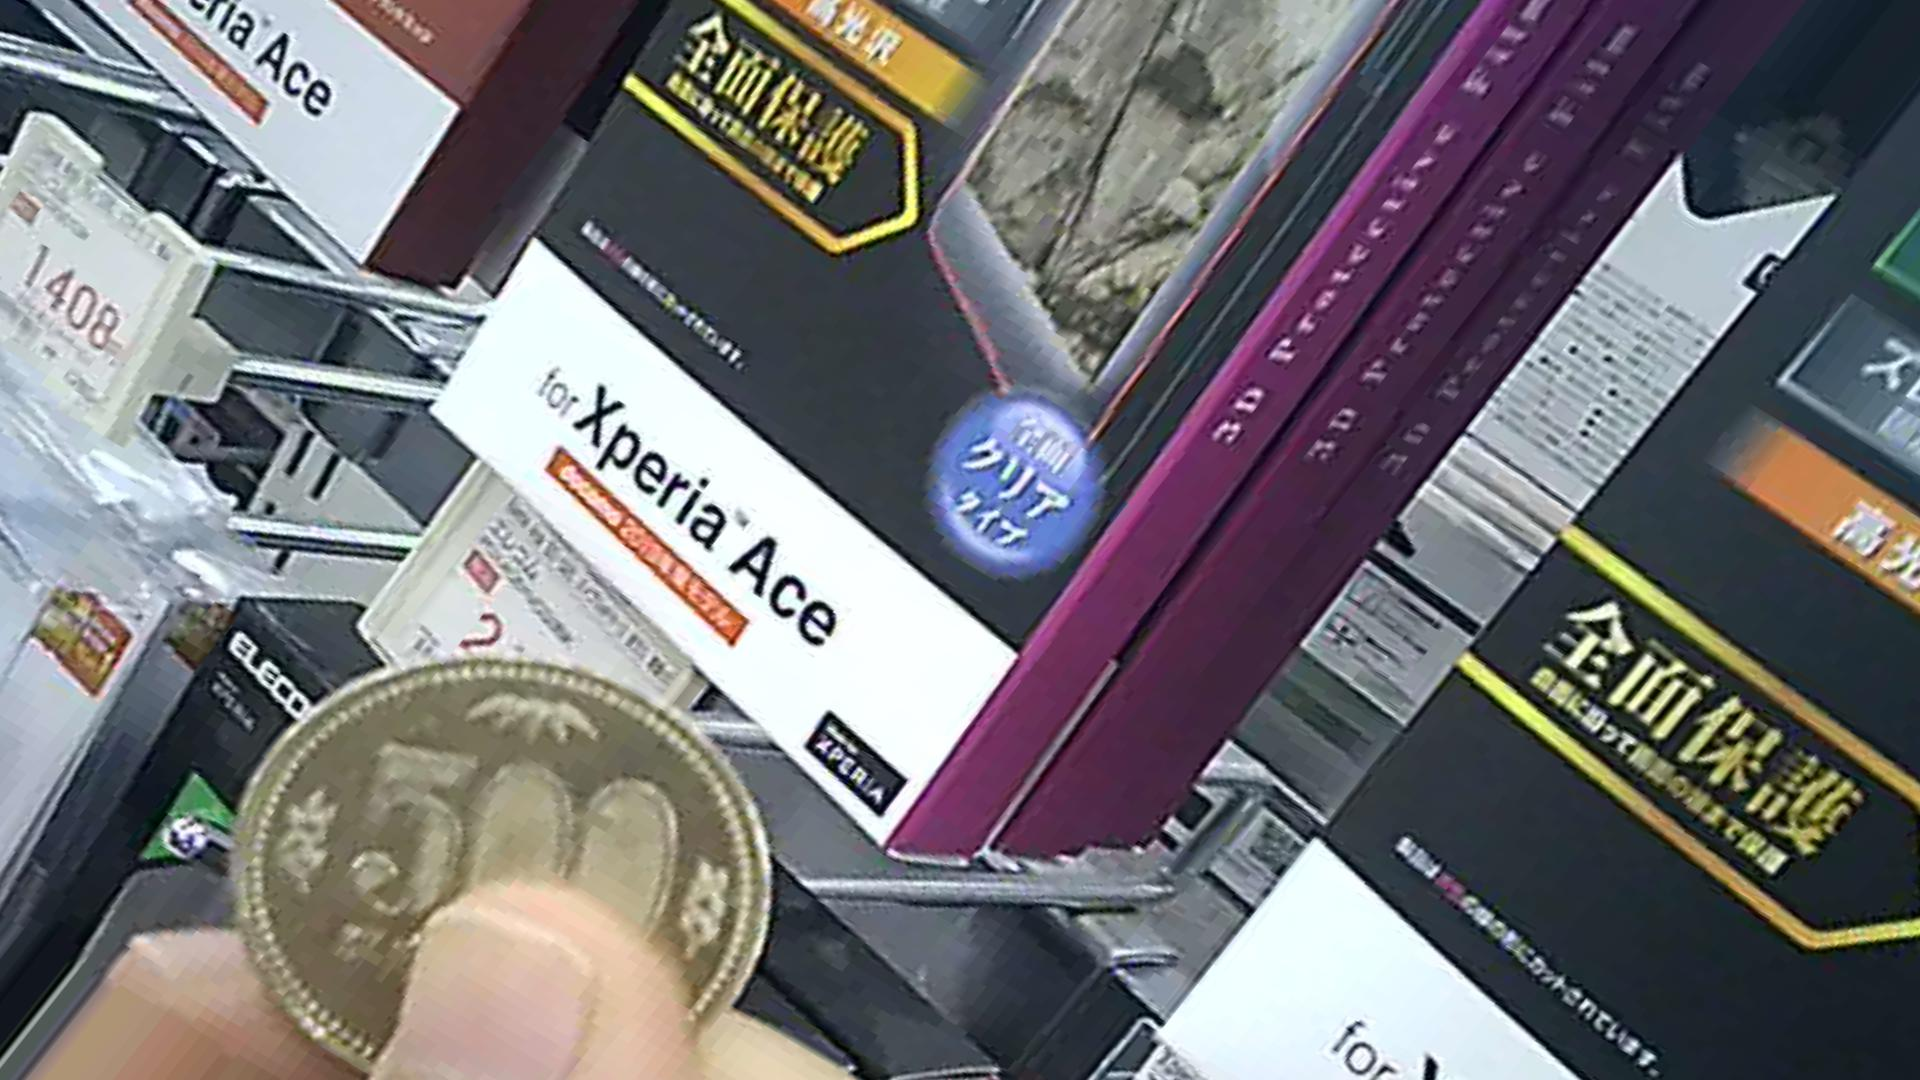500 Yen: (202, 653, 775, 1058)
